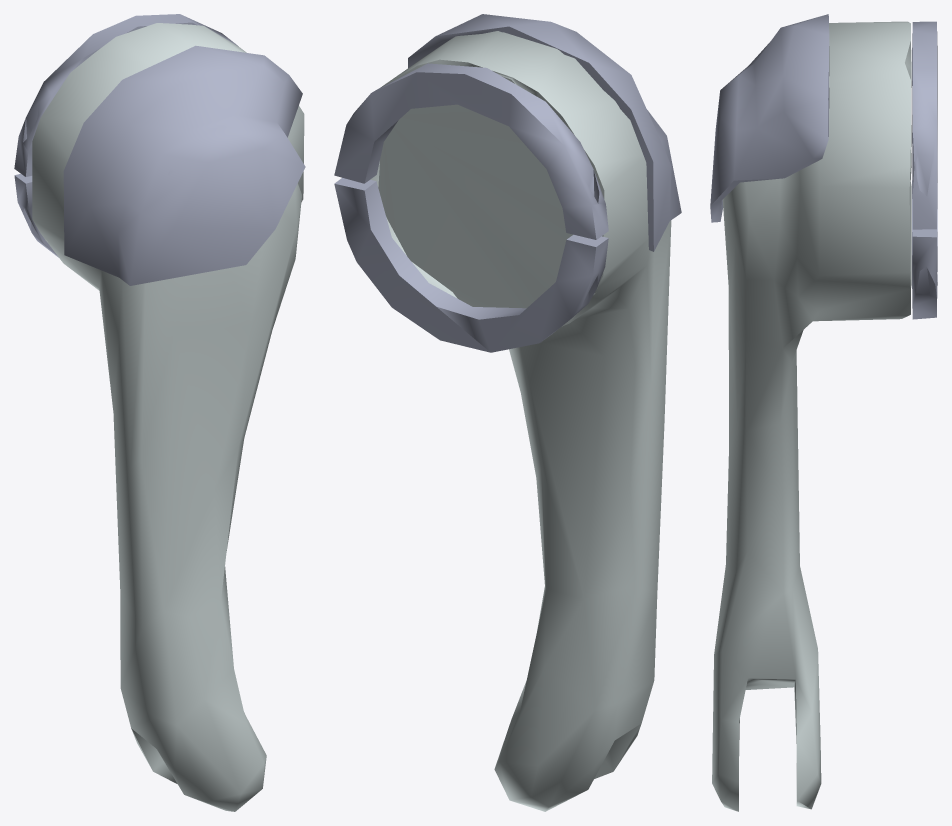
Rendered from thigh_mirror_dae.dae.
3 renders of one model, left to right at view 1: azimuth 30°, elevation 25°; view 2: azimuth 150°, elevation 25°; view 3: azimuth 270°, elevation 25°, orthographic. The views are drawn at different scales.
Visible parts, largest first — view 1: thigh_mirror_dae; view 2: thigh_mirror_dae; view 3: thigh_mirror_dae.
Boxes of the visible parts, left/top/right/bottom form: thigh_mirror_dae: left=14, top=14, right=305, bottom=811; thigh_mirror_dae: left=334, top=14, right=681, bottom=811; thigh_mirror_dae: left=710, top=14, right=937, bottom=811.
Bounding box in the file's own units: 0.0968 × 0.0734 × 0.2779.
